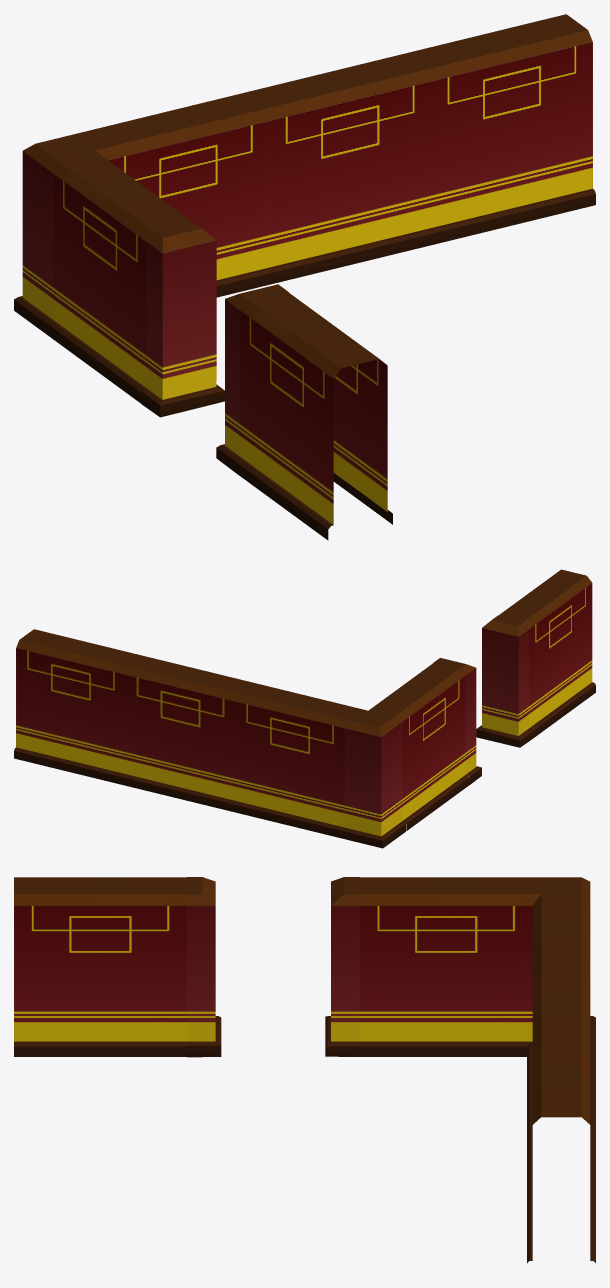
File: Wall_Library_New_v1.fbx
The picture shows the model from 3 angles, top to bottom: view 1: azimuth 30°, elevation 25°; view 2: azimuth 150°, elevation 25°; view 3: azimuth 270°, elevation 25°; orthographic projection. The views are drawn at different scales.
Parts seen in each view (by area): view 1: Wall_Library_New_v1; view 2: Wall_Library_New_v1; view 3: Wall_Library_New_v1.
Part boxes in pixels (<box>): Wall_Library_New_v1: <box>14,14,595,540</box>; Wall_Library_New_v1: <box>14,569,595,848</box>; Wall_Library_New_v1: <box>14,877,595,1262</box>.
Bounding box in the file's own units: 1010 × 300 × 1010.
